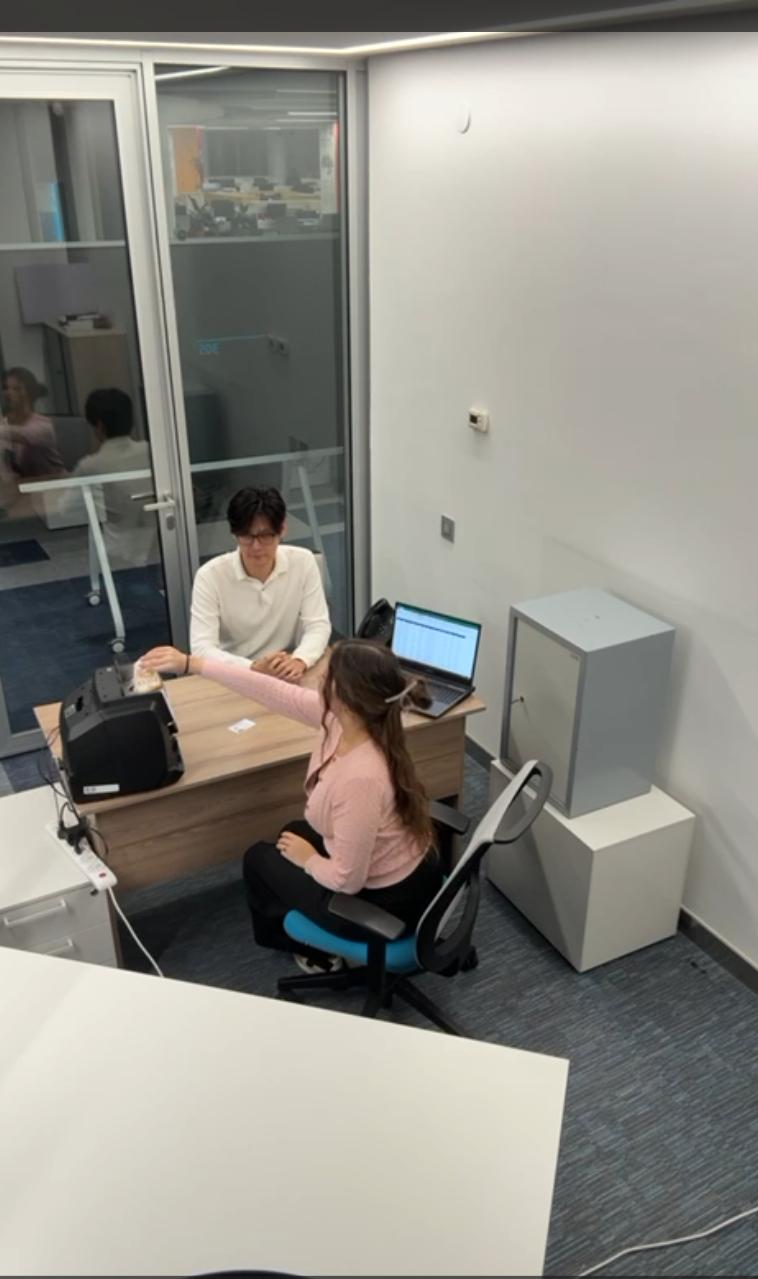cash_stack: (129, 648, 169, 700)
counter: (63, 662, 183, 796)
key_in: (510, 682, 540, 723)
screen_on: (394, 621, 479, 673)
